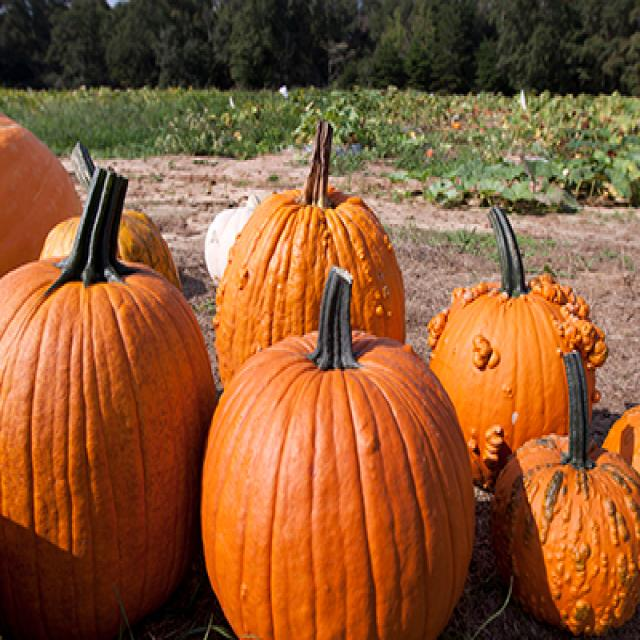pumpkin: (0, 168, 216, 638), (201, 267, 474, 638), (214, 122, 405, 386), (428, 208, 608, 486), (491, 350, 640, 635), (1, 115, 81, 276), (121, 212, 181, 288), (602, 405, 640, 472), (39, 218, 80, 259), (70, 142, 95, 189)
